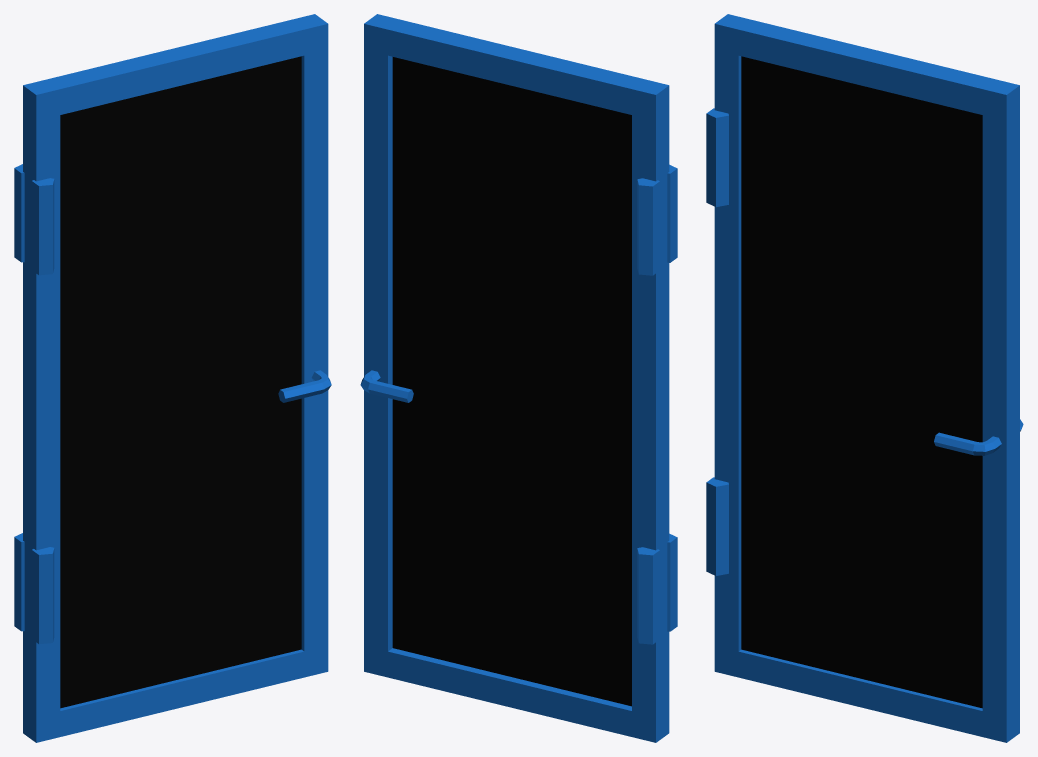
The model's file is SM_door_1.fbx.
3 renders of one model, left to right at view 1: azimuth 30°, elevation 25°; view 2: azimuth 150°, elevation 25°; view 3: azimuth 330°, elevation 25°, orthographic.
Parts seen in each view (by area): view 1: Cube_9; view 2: Cube_9; view 3: Cube_9.
Part boxes in pixels (x1,y1,x2,y2): Cube_9: [14, 14, 331, 742]; Cube_9: [360, 14, 677, 742]; Cube_9: [706, 14, 1023, 742].
Bounding box in the file's own units: 85.55 × 180 × 21.69.
